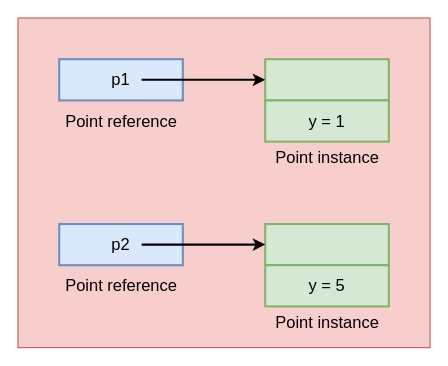
This 448x366 diagram has some shape labels left out. Here are the shapes that lost their labels. From the top down, the box of each, then its label:
(264, 58, 389, 101): x = 1
(264, 222, 389, 266): x = 4
